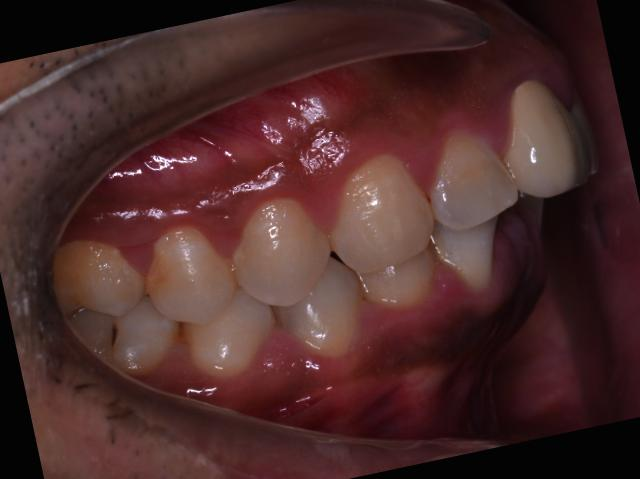canine class II 1/2: (238, 123, 466, 378)
molar class II 1/4: (37, 215, 188, 398)
